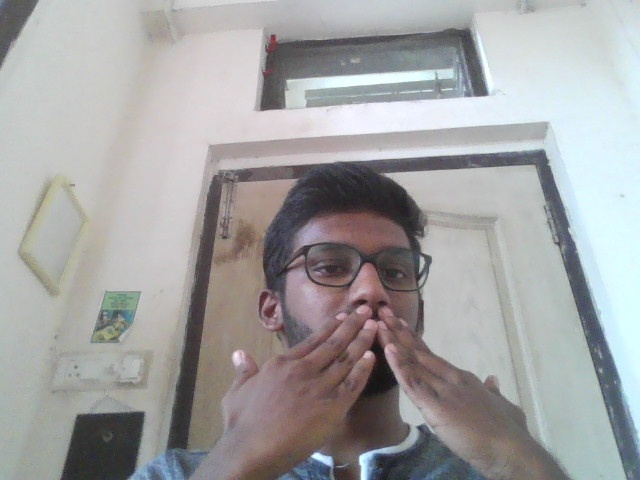Thank You: (216, 303, 533, 480)
